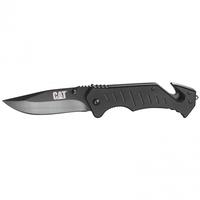knife: (1, 80, 199, 122)
